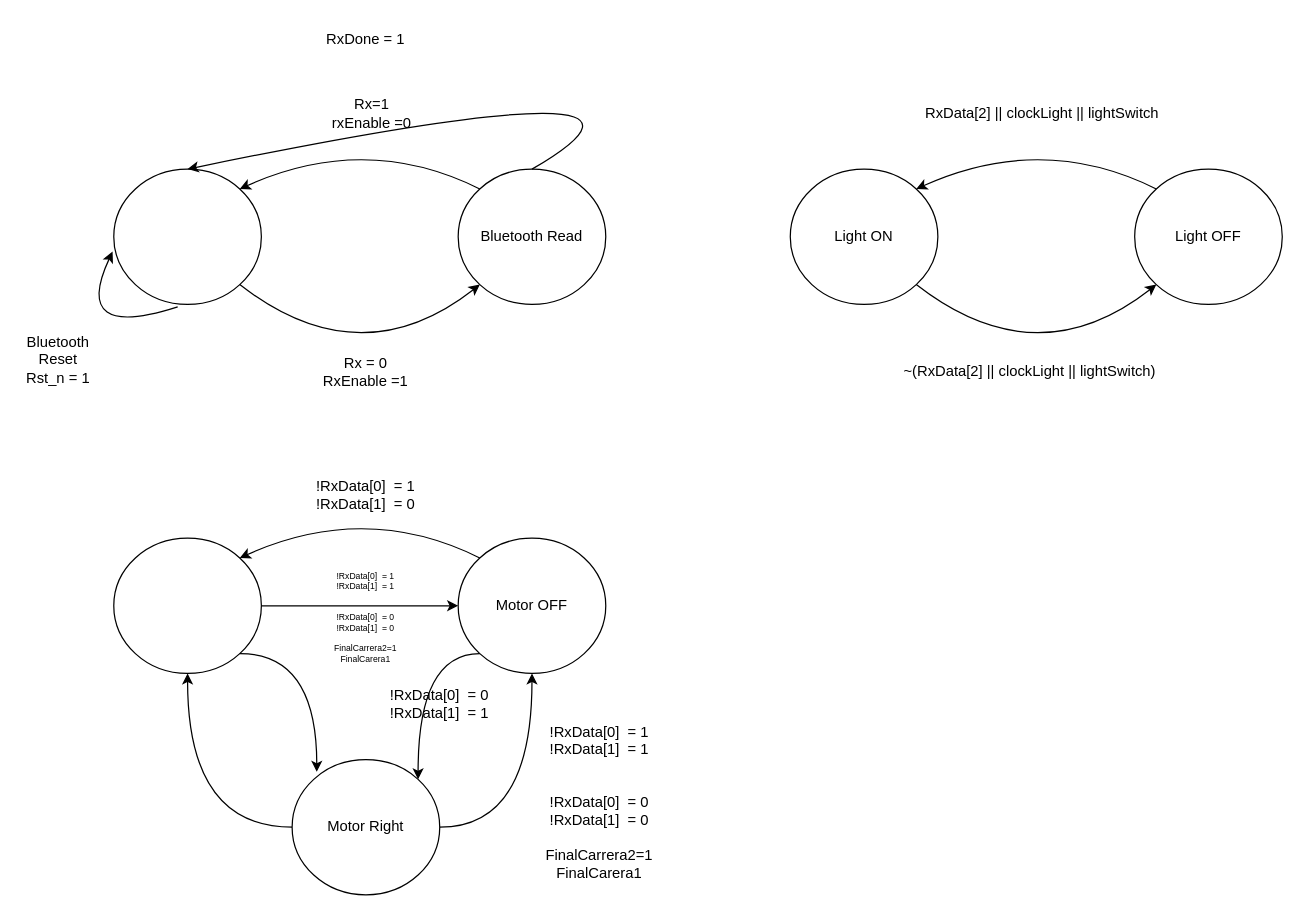
Image size: 1304x916. Some labels were removed from this diagram. Here are the shapes that lost their labels. From the top down, the centre of each, then its label:
At point (187, 236): "Bluetooth IDLE".
At point (187, 605): "Motor Left".
